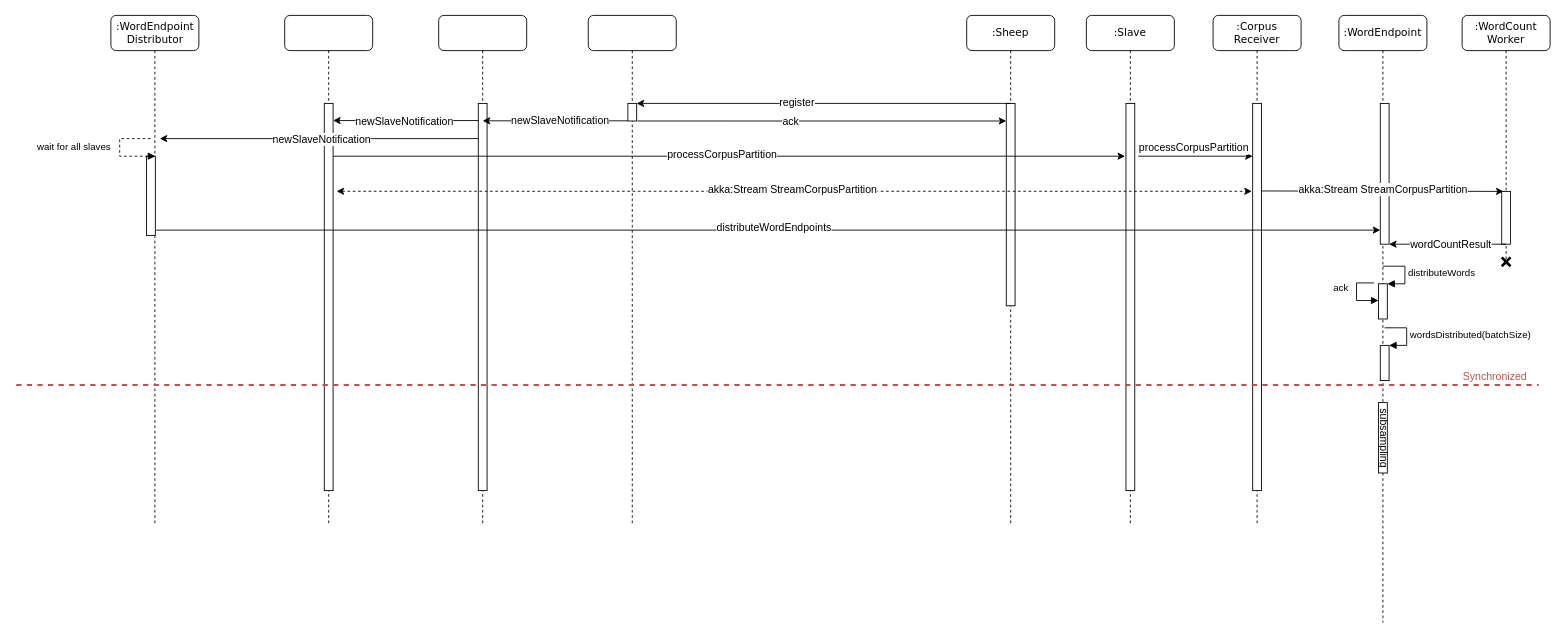
Image size: 1566x638. Some labels were removed from this diagram. Here are the shapes that lost their labels. From the top down, the box of each, then its label:
(284, 15, 373, 526): :Corpus Distributor
(438, 15, 527, 526): :Master
(587, 15, 676, 526): :Shepherd
